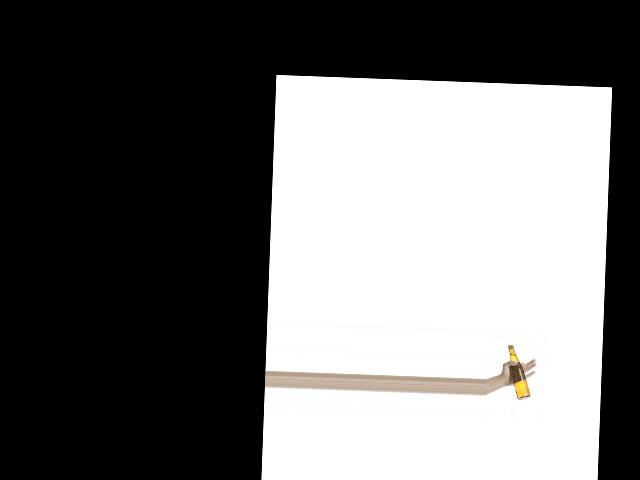beer: (506, 345, 531, 399)
